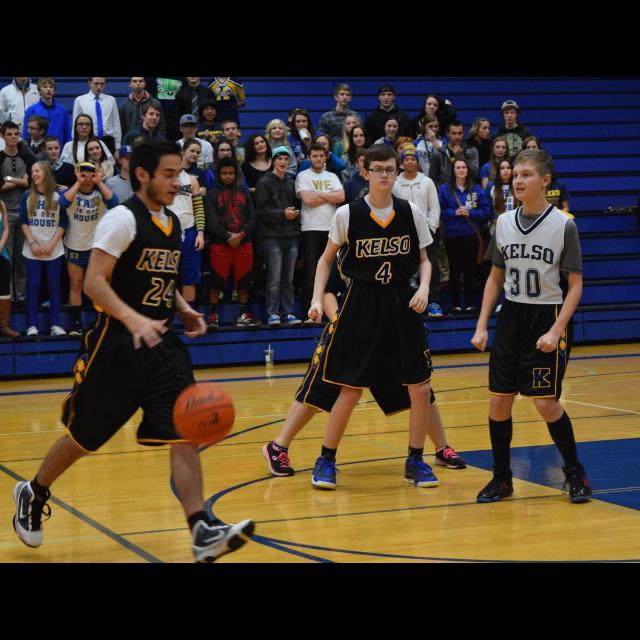head: (128, 138, 184, 206), (512, 148, 554, 202), (352, 188, 396, 236), (362, 146, 400, 192), (118, 145, 140, 173), (76, 162, 98, 190), (1, 120, 22, 148), (307, 144, 329, 170), (162, 145, 184, 171), (272, 147, 292, 173), (42, 136, 62, 162), (141, 102, 161, 128), (31, 161, 51, 185), (182, 139, 202, 163), (215, 138, 235, 162), (74, 114, 94, 138), (27, 116, 47, 140), (219, 160, 237, 186), (446, 120, 464, 146), (401, 150, 421, 173), (350, 125, 370, 147), (356, 150, 374, 174), (86, 138, 104, 162), (292, 110, 310, 134), (334, 85, 354, 106), (378, 85, 397, 107), (402, 150, 420, 172), (38, 78, 56, 100), (502, 104, 520, 125), (496, 160, 514, 180), (250, 135, 268, 155), (88, 77, 108, 95), (128, 76, 148, 94), (316, 135, 332, 157), (492, 136, 508, 158), (424, 95, 440, 116), (180, 120, 198, 138), (454, 158, 468, 178), (539, 163, 553, 181), (0, 174, 10, 192), (184, 77, 202, 87), (14, 76, 30, 85), (214, 76, 230, 85)
person: (260, 185, 468, 479), (304, 142, 444, 492), (469, 147, 597, 509), (144, 140, 206, 332), (56, 160, 122, 338), (381, 140, 445, 320), (98, 143, 156, 334), (56, 113, 118, 280), (293, 133, 353, 300), (253, 142, 307, 326), (294, 143, 348, 325), (70, 136, 126, 310), (17, 160, 71, 340), (203, 155, 257, 331), (338, 148, 392, 322), (202, 136, 258, 302), (120, 96, 170, 278), (26, 136, 78, 310), (428, 120, 480, 294), (438, 155, 492, 317), (336, 123, 384, 300), (238, 134, 288, 302), (363, 85, 417, 238), (168, 114, 218, 278), (524, 156, 574, 312), (478, 135, 528, 289), (284, 109, 330, 275), (317, 83, 367, 233), (15, 114, 60, 280), (0, 77, 52, 219), (412, 92, 462, 238), (68, 78, 122, 212), (21, 77, 70, 216), (483, 159, 527, 313), (170, 137, 210, 303), (0, 120, 36, 304), (494, 99, 536, 253), (386, 136, 426, 292), (118, 76, 166, 202), (170, 77, 217, 199), (207, 77, 249, 185), (1, 166, 26, 340)
